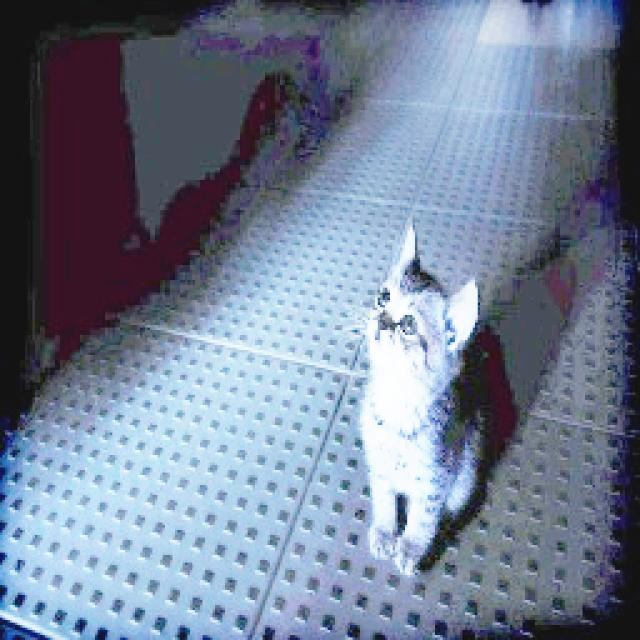cat: (297, 244, 524, 593)
